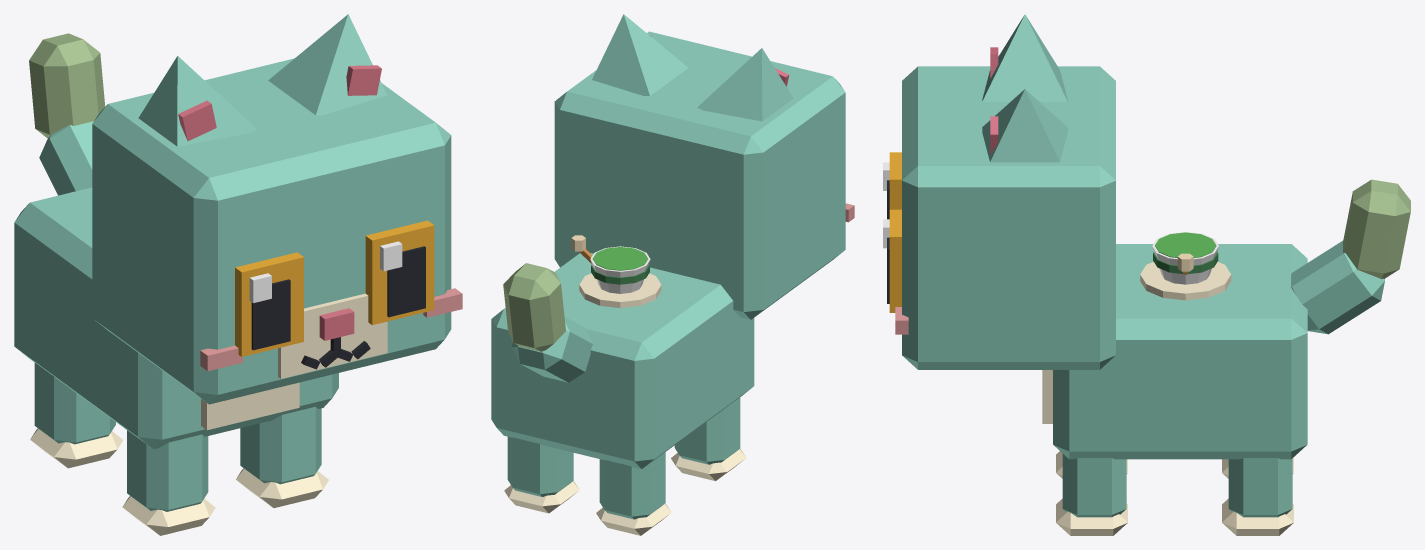
File: CatCafe_Cat_Matcha.fbx
3 renders of one model, left to right at view 1: azimuth 30°, elevation 25°; view 2: azimuth 150°, elevation 25°; view 3: azimuth 270°, elevation 25°, orthographic. The views are drawn at different scales.
Parts seen in each view (by area): view 1: CatCafe_Cat_Matcha_Head, CatCafe_Cat_Matcha_Body, CatCafe_Cat_Matcha_Tail, CatCafe_Cat_Matcha_LegF2, CatCafe_Cat_Matcha_LegF1, CatCafe_Cat_Matcha_EarL, CatCafe_Cat_Matcha_Eye1, CatCafe_Cat_Matcha_Eye2, CatCafe_Cat_Matcha_LegB2, CatCafe_Cat_Matcha_EarR; view 2: CatCafe_Cat_Matcha_Head, CatCafe_Cat_Matcha_Body, CatCafe_Cat_Matcha_Tail, CatCafe_Cat_Matcha_LegB2, CatCafe_Cat_Matcha_EarL, CatCafe_Cat_Matcha_LegB1, CatCafe_Cat_Matcha_Prop, CatCafe_Cat_Matcha_EarR, CatCafe_Cat_Matcha_LegF2; view 3: CatCafe_Cat_Matcha_Head, CatCafe_Cat_Matcha_Body, CatCafe_Cat_Matcha_Tail, CatCafe_Cat_Matcha_LegF1, CatCafe_Cat_Matcha_LegB1, CatCafe_Cat_Matcha_Prop, CatCafe_Cat_Matcha_EarL, CatCafe_Cat_Matcha_EarR, CatCafe_Cat_Matcha_Eye1, CatCafe_Cat_Matcha_Eye2.
Boxes of the visible parts, x1=… form: CatCafe_Cat_Matcha_Head: x1=92, y1=58, x2=462, y2=404; CatCafe_Cat_Matcha_Body: x1=14, y1=187, x2=338, y2=449; CatCafe_Cat_Matcha_Tail: x1=29, y1=33, x2=105, y2=195; CatCafe_Cat_Matcha_LegF2: x1=122, y1=430, x2=215, y2=535; CatCafe_Cat_Matcha_LegF1: x1=236, y1=406, x2=328, y2=507; CatCafe_Cat_Matcha_EarL: x1=268, y1=14, x2=387, y2=115; CatCafe_Cat_Matcha_Eye1: x1=365, y1=220, x2=434, y2=325; CatCafe_Cat_Matcha_Eye2: x1=235, y1=252, x2=303, y2=356; CatCafe_Cat_Matcha_LegB2: x1=30, y1=362, x2=123, y2=468; CatCafe_Cat_Matcha_EarR: x1=138, y1=56, x2=257, y2=146; CatCafe_Cat_Matcha_Head: x1=554, y1=31, x2=854, y2=319; CatCafe_Cat_Matcha_Body: x1=491, y1=253, x2=754, y2=469; CatCafe_Cat_Matcha_Tail: x1=503, y1=263, x2=592, y2=382; CatCafe_Cat_Matcha_LegB2: x1=596, y1=452, x2=671, y2=535; CatCafe_Cat_Matcha_EarL: x1=592, y1=14, x2=688, y2=95; CatCafe_Cat_Matcha_LegB1: x1=504, y1=437, x2=579, y2=513; CatCafe_Cat_Matcha_Prop: x1=571, y1=235, x2=661, y2=307; CatCafe_Cat_Matcha_EarR: x1=697, y1=48, x2=793, y2=121; CatCafe_Cat_Matcha_LegF2: x1=671, y1=397, x2=746, y2=481; CatCafe_Cat_Matcha_Head: x1=895, y1=66, x2=1115, y2=369; CatCafe_Cat_Matcha_Body: x1=1042, y1=244, x2=1307, y2=459; CatCafe_Cat_Matcha_Tail: x1=1291, y1=179, x2=1410, y2=334; CatCafe_Cat_Matcha_LegF1: x1=1056, y1=454, x2=1127, y2=535; CatCafe_Cat_Matcha_LegB1: x1=1222, y1=458, x2=1293, y2=535; CatCafe_Cat_Matcha_Prop: x1=1140, y1=232, x2=1231, y2=300; CatCafe_Cat_Matcha_EarL: x1=982, y1=89, x2=1067, y2=162; CatCafe_Cat_Matcha_EarR: x1=982, y1=14, x2=1067, y2=101; CatCafe_Cat_Matcha_Eye1: x1=883, y1=209, x2=901, y2=312; CatCafe_Cat_Matcha_Eye2: x1=883, y1=152, x2=901, y2=219.
Bounding box in the file's own units: 1 × 1.86 × 1.97.
1 material, 1 textured.
